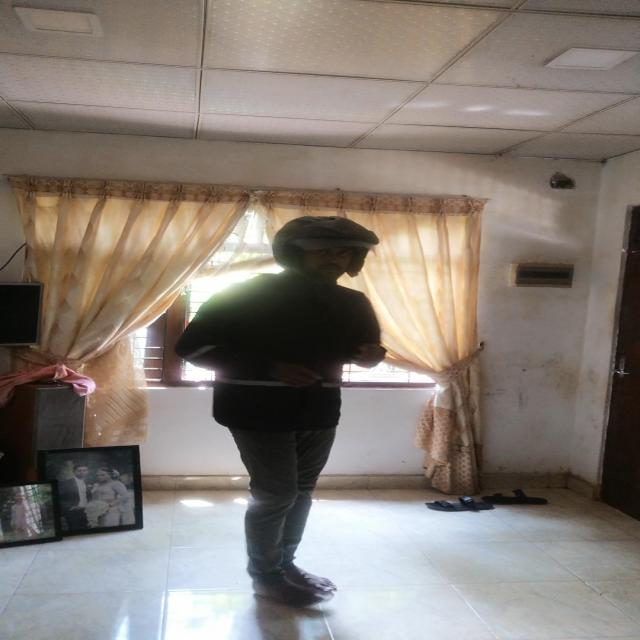Helmet_Wearer: (265, 209, 402, 316)
Jacket_Wearer: (186, 266, 392, 468)
Person: (178, 202, 398, 638)
